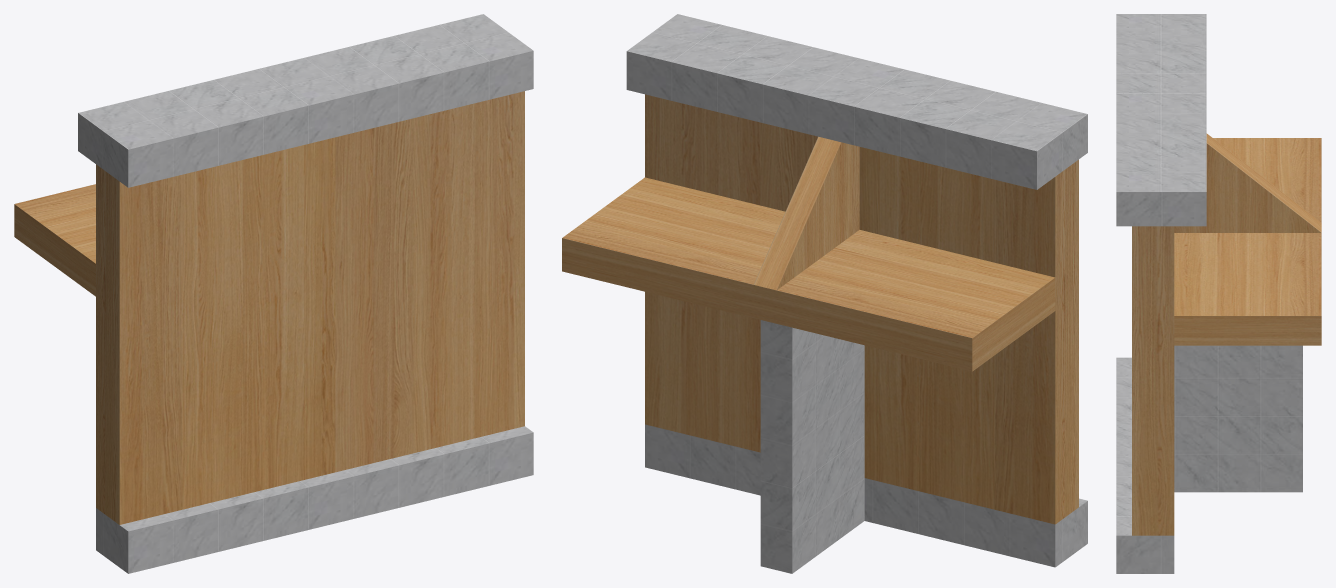
File: desk middle.FBX
3 views of the same model, side by side, from view 1: azimuth 30°, elevation 25°; view 2: azimuth 150°, elevation 25°; view 3: azimuth 270°, elevation 25° (orthographic). The views are drawn at different scales.
Parts seen in each view (by area): view 1: desk middle; view 2: desk middle; view 3: desk middle.
Part boxes in pixels (x1=…): desk middle: x1=14, y1=14, x2=533, y2=573; desk middle: x1=562, y1=14, x2=1087, y2=573; desk middle: x1=1116, y1=14, x2=1321, y2=573.
Bounding box in the file's own units: 40 × 19.5 × 40.
